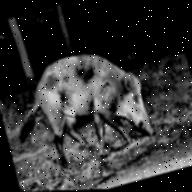boar: (0, 18, 161, 181)
